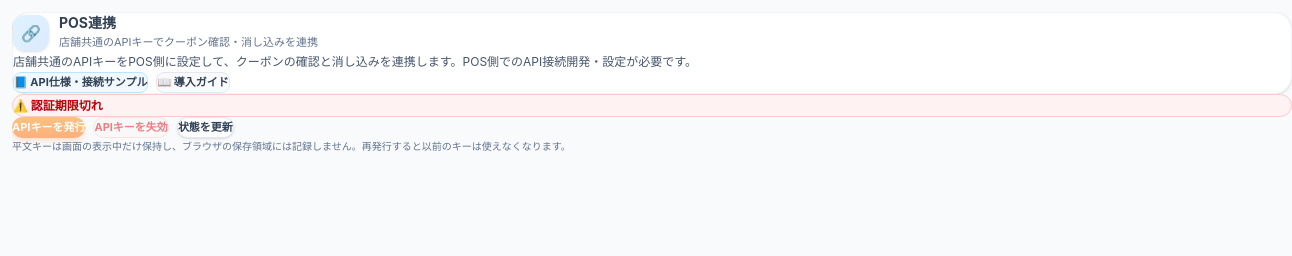
POS integration management › surfaces loading errors and allows retry
Expected: the message "⚠️ 認証期限切れ" is shown, [12,94,1291,117]
Expected: the button "APIキーを発行" is disabled, [12,117,85,138]
Click the button "状態を更新".
click(205, 128)  # box [177,117,234,138]
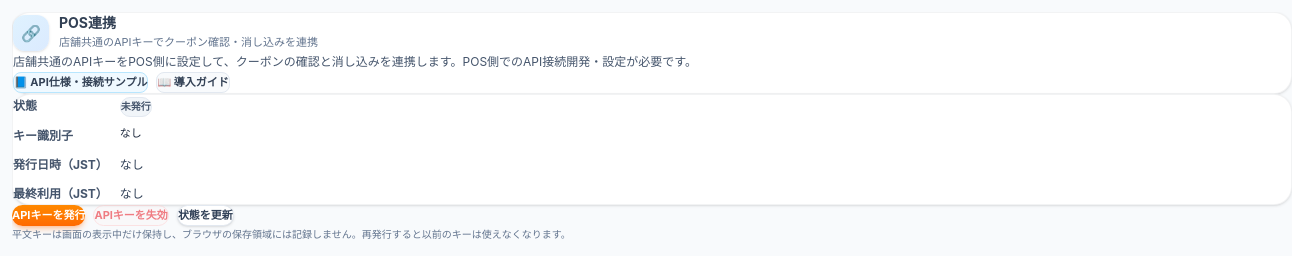
Now the message "⚠️ 認証期限切れ" is gone
Now the button "APIキーを発行" is enabled, box [12,204,85,226]
